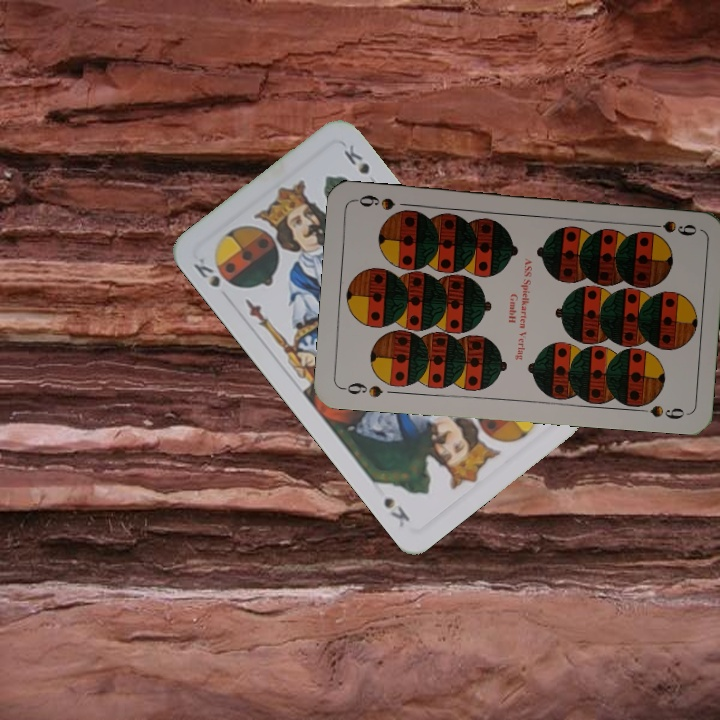S9: (641, 216, 700, 239), (338, 379, 385, 400)
SK: (189, 253, 223, 290)
